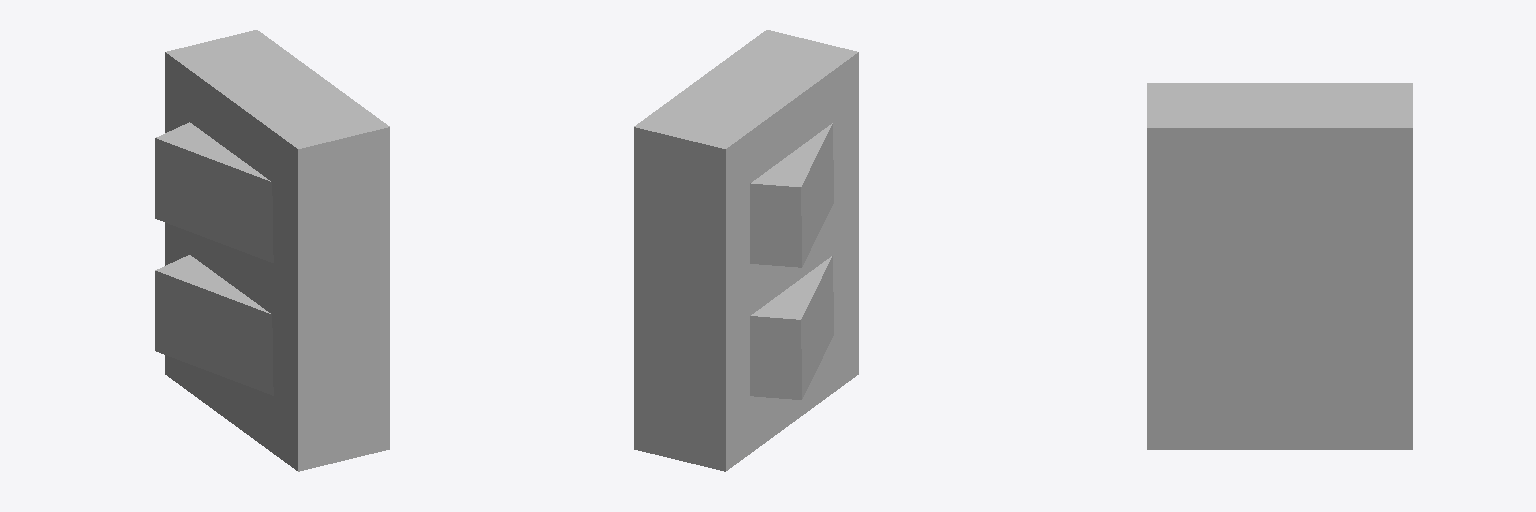
Rendered from apagador1.obj.
3 renders of one model, left to right at view 1: azimuth 30°, elevation 25°; view 2: azimuth 150°, elevation 25°; view 3: azimuth 270°, elevation 25°, orthographic.
Visible parts, largest first — view 1: caja.001_Cube.039, switch.005_Cube.044, switch.004_Cube.042; view 2: caja.001_Cube.039, switch.004_Cube.042, switch.005_Cube.044; view 3: caja.001_Cube.039.
Part boxes in pixels (x1,y1,x2,y2): caja.001_Cube.039: (165,30,389,471); switch.005_Cube.044: (155,255,273,395); switch.004_Cube.042: (155,122,273,262); caja.001_Cube.039: (634,30,858,471); switch.004_Cube.042: (750,123,833,267); switch.005_Cube.044: (750,256,833,399); caja.001_Cube.039: (1147,83,1412,449).
Size of the model in its own units: 0.6482 by 1.48 by 1.1.